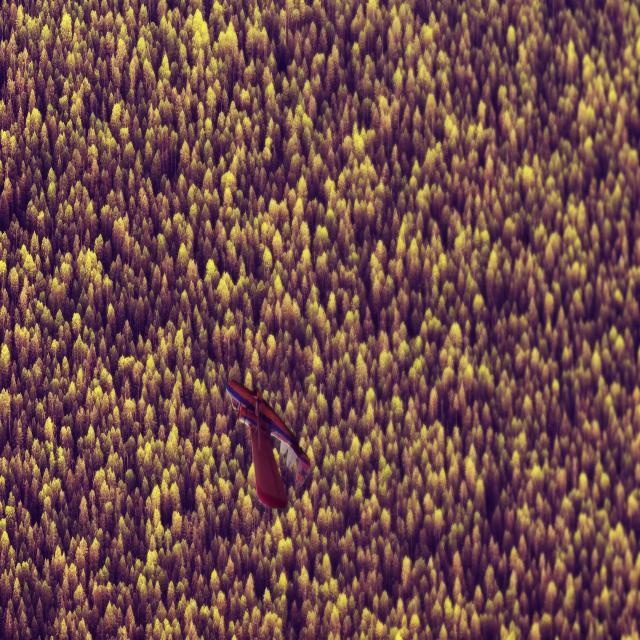airplane: (224, 378, 311, 509)
